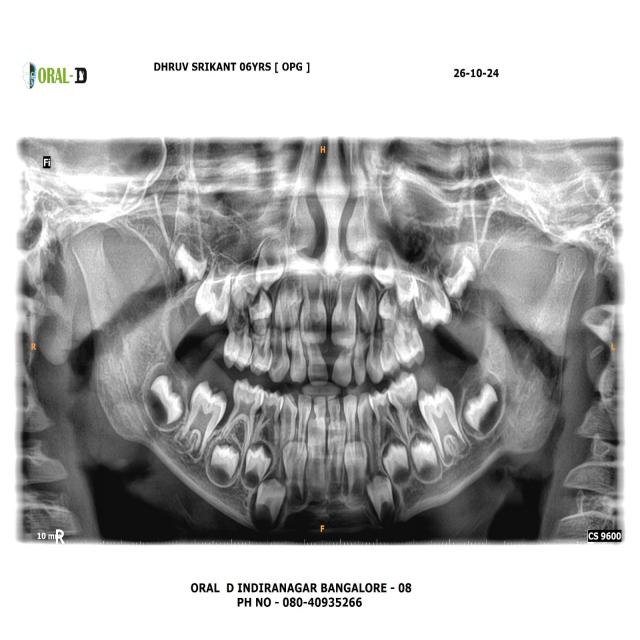Premolars: (366, 388, 402, 441)
